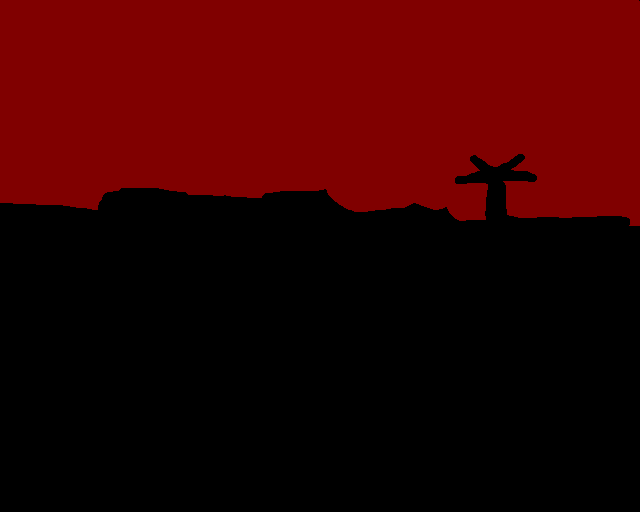Sky: (1, 1, 639, 226)
